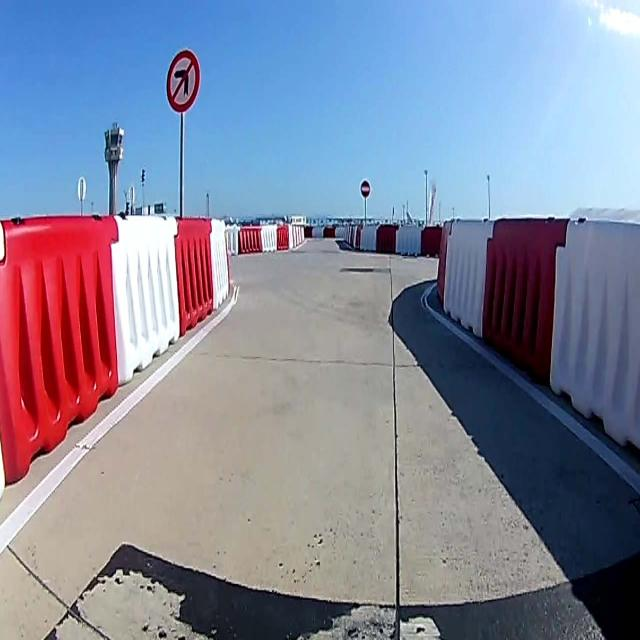girisyok: (360, 180, 370, 198)
soladonulmez: (166, 49, 200, 112)
